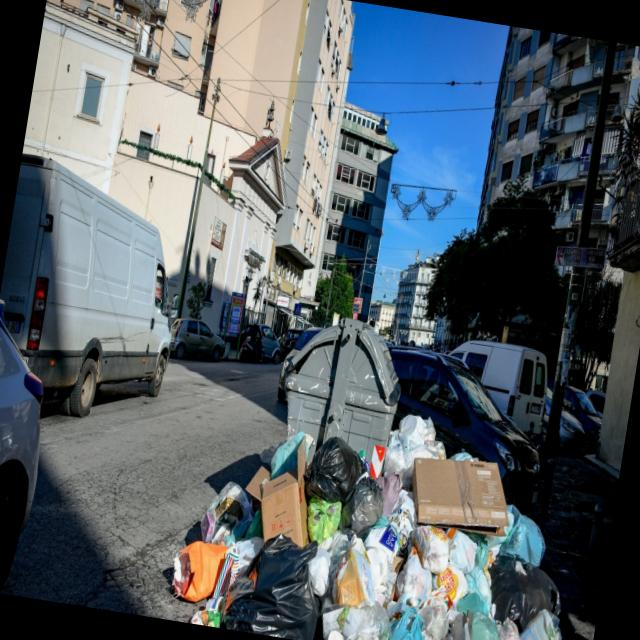garbage: (154, 305, 614, 640)
